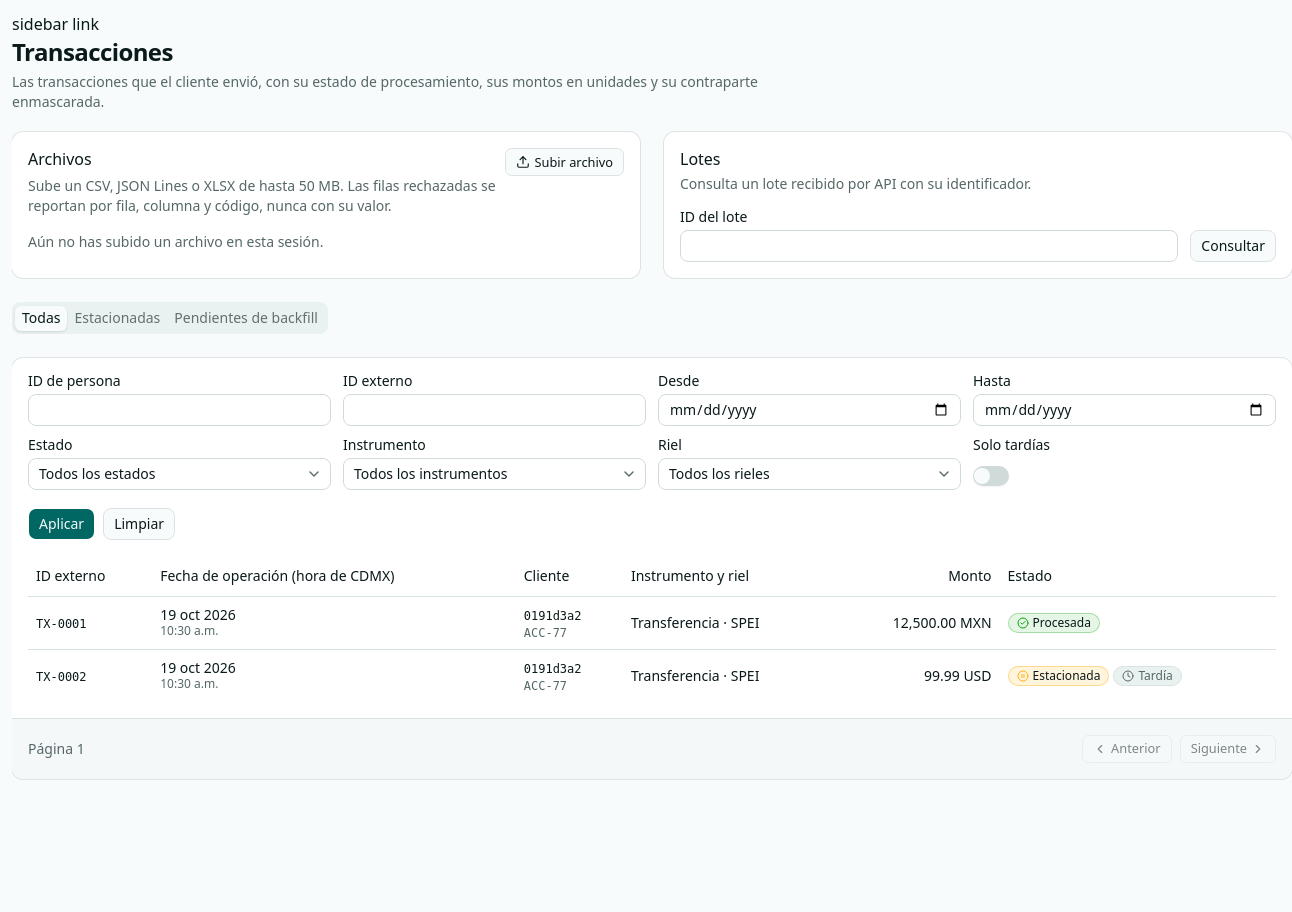
Test: TransactionsPage › shows the files and batches panels, and the parked and backfill lists behind their tabs
Expected: the text "Archivos" is shown, [28,148,92,170]
Expected: the text "Lotes" is shown, [680,148,720,170]
Step 1. Click the tab "Estacionadas" → (117, 318), box [68,306,167,330]
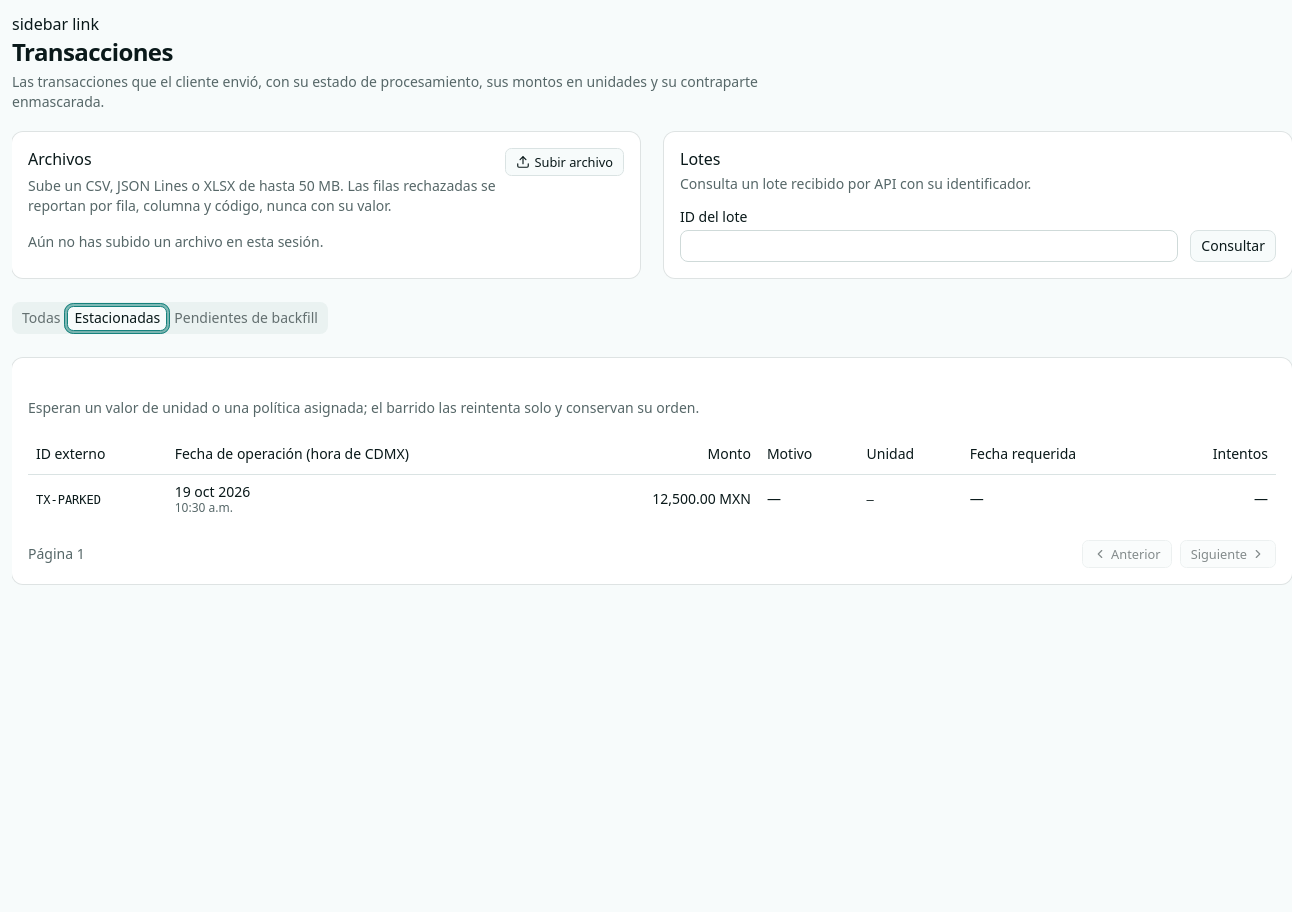
Now the text "TX-PARKED" is shown, box [36,493,101,507]
Step 2. Click the tab "Pendientes de backfill" → (246, 318), box [167,306,325,330]
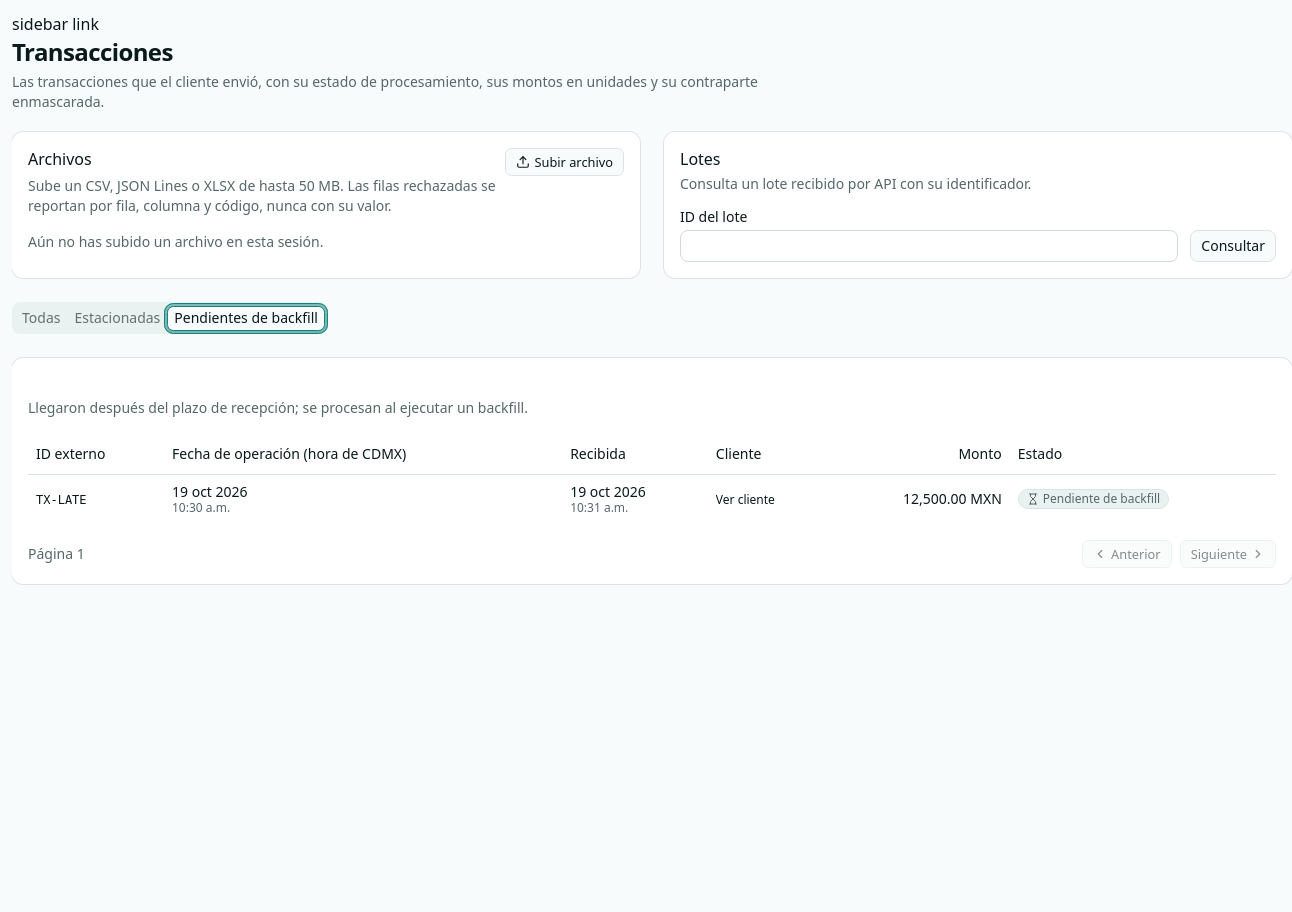
Now the text "TX-LATE" is shown, box [36,493,87,507]
